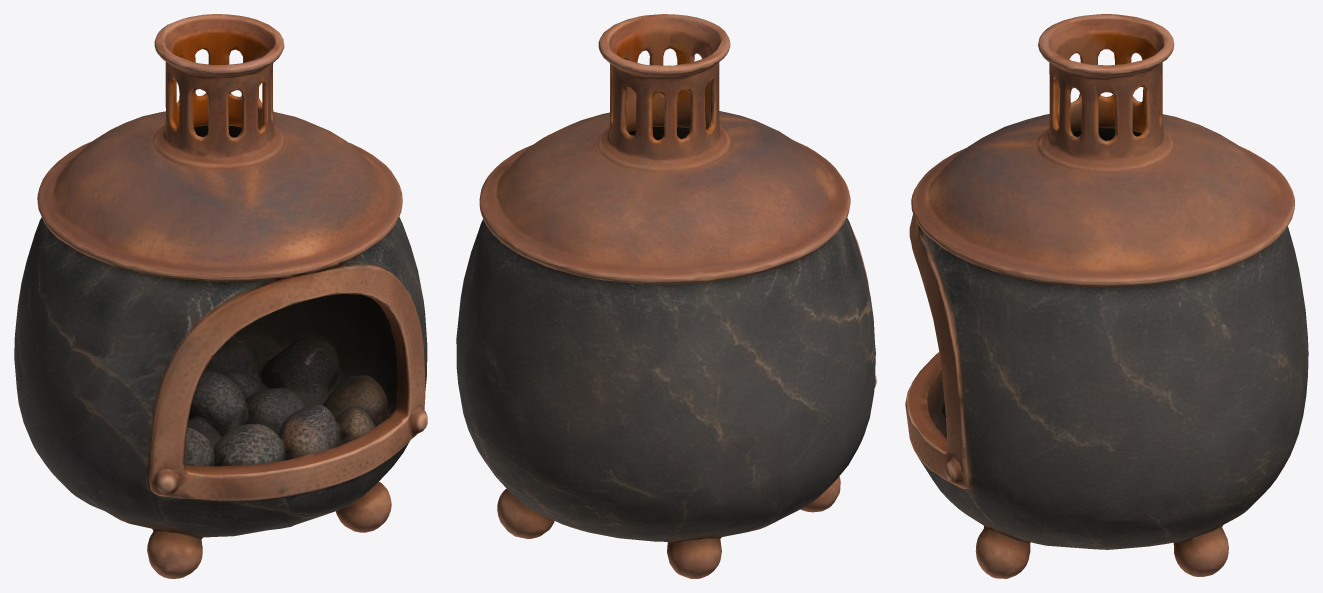
File: baby-bonfire-plain.glb
3 renders of one model, left to right at view 1: azimuth 30°, elevation 25°; view 2: azimuth 150°, elevation 25°; view 3: azimuth 270°, elevation 25°, orthographic. The views are drawn at different scales.
Parts seen in each view (by area): view 1: baby-bonfire; view 2: baby-bonfire; view 3: baby-bonfire.
Part boxes in pixels (<box>): baby-bonfire: <box>14,14,427,578</box>; baby-bonfire: <box>456,14,876,578</box>; baby-bonfire: <box>905,14,1308,578</box>.
Bounding box in the file's own units: 0.1022 × 0.13 × 0.0972.
1 material, 1 textured.
